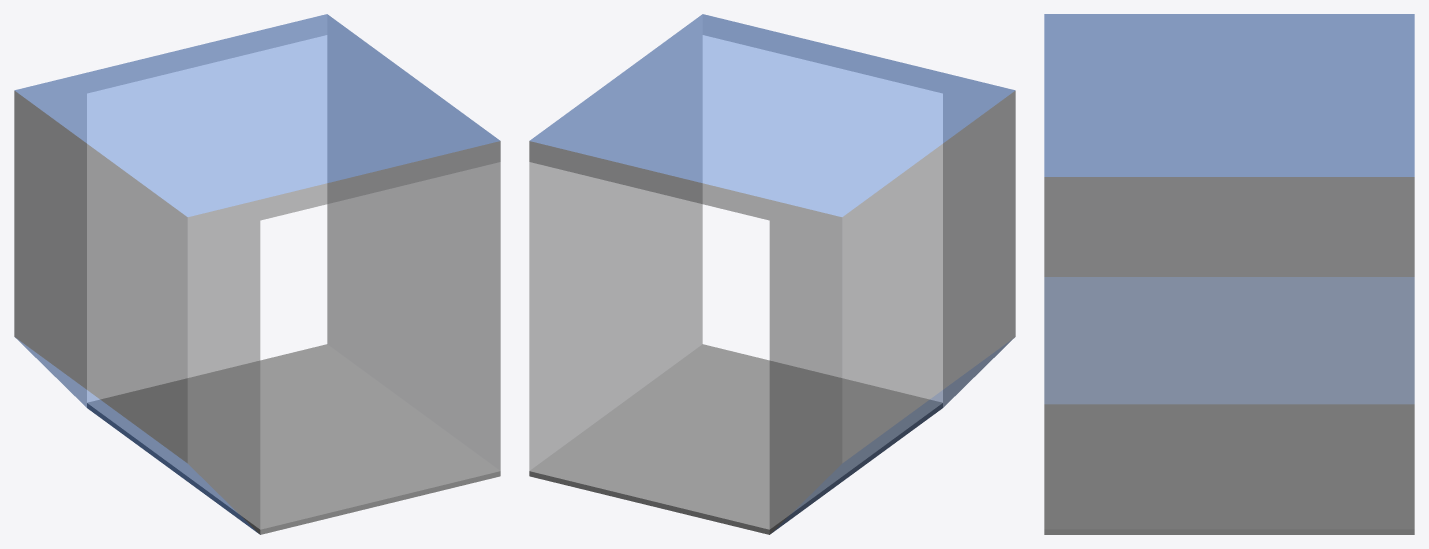
Rendered from dpe.gltf.
3 renders of one model, left to right at view 1: azimuth 30°, elevation 25°; view 2: azimuth 150°, elevation 25°; view 3: azimuth 270°, elevation 25°, orthographic. The views are drawn at different scales.
Visible parts, largest first — view 1: root; view 2: root; view 3: root.
Boxes of the visible parts, bbox=[...] form: root: bbox=[14, 14, 500, 534]; root: bbox=[529, 14, 1015, 534]; root: bbox=[1044, 14, 1414, 534].
Size of the model in its own units: 1.59 by 1.63 by 1.52.
